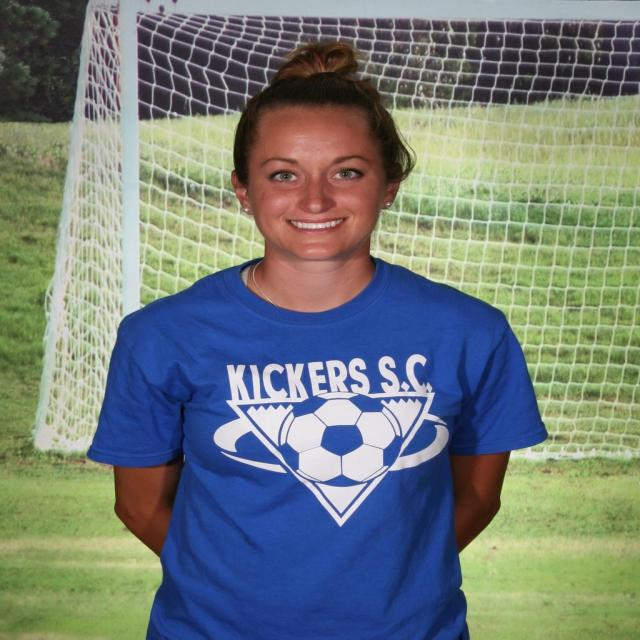Face: (223, 89, 399, 265)
